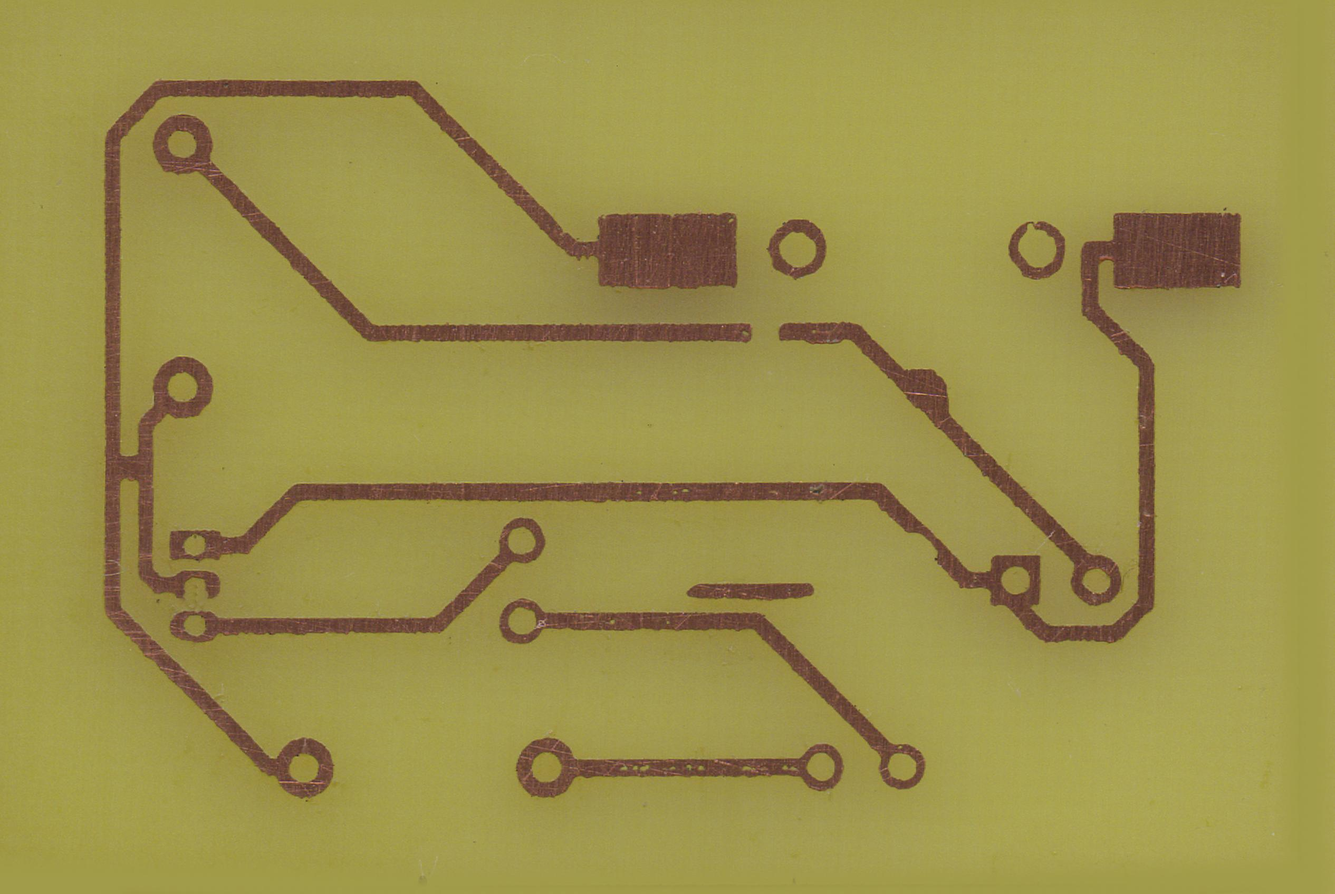missing_hole: (1005, 218, 1071, 283), (167, 570, 228, 604)
mouse_bite: (900, 517, 945, 563)
open_circuit: (734, 315, 794, 349)
short: (100, 446, 160, 490)
spur: (889, 361, 962, 428)
spurious_copper: (682, 575, 818, 607)
